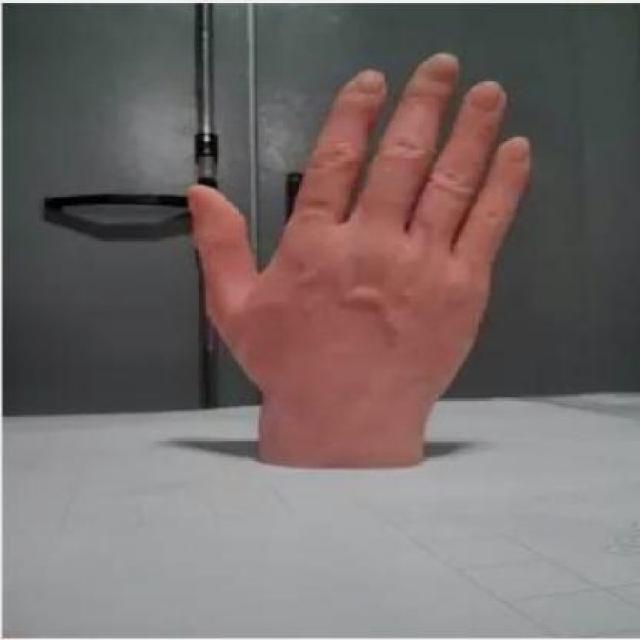hand_noglove: (192, 52, 542, 402)
